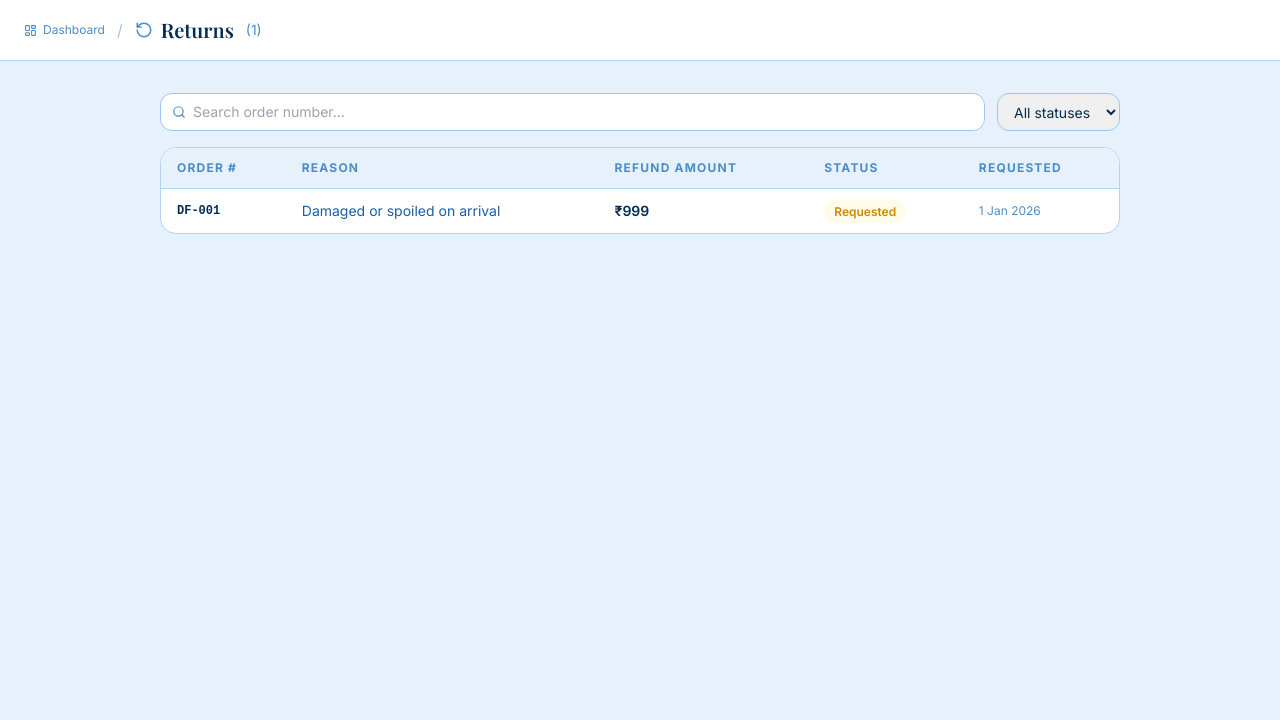
AdminReturnsPage › does not offer a Razorpay approve button for a COD order
Click the text "DF-001".
click(199, 211)  # box [161, 188, 286, 233]
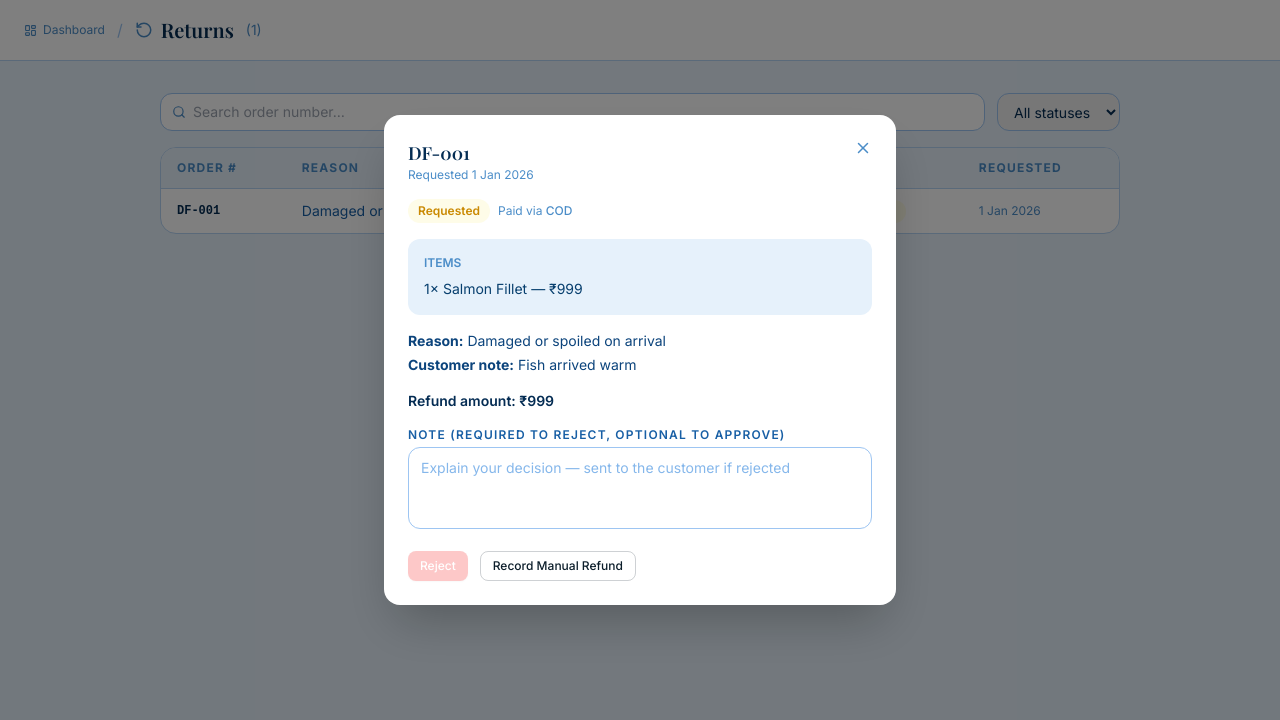
Expected: the list item "1× Salmon Fillet — ₹999" is shown, [424, 280, 583, 297]
Expected: the button "Record Manual Refund" is shown, [480, 551, 636, 581]
